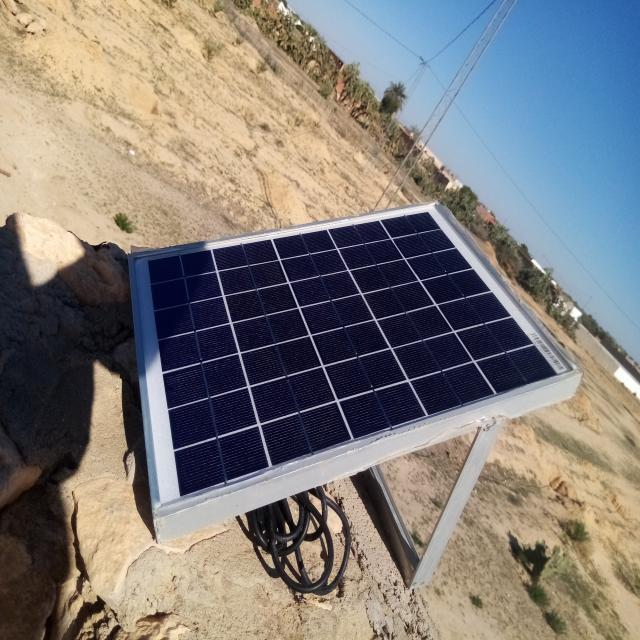Normal Solar Panel: (131, 201, 578, 521)
